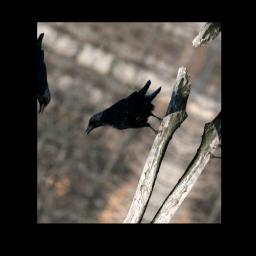Crow: (81, 64, 182, 163)
